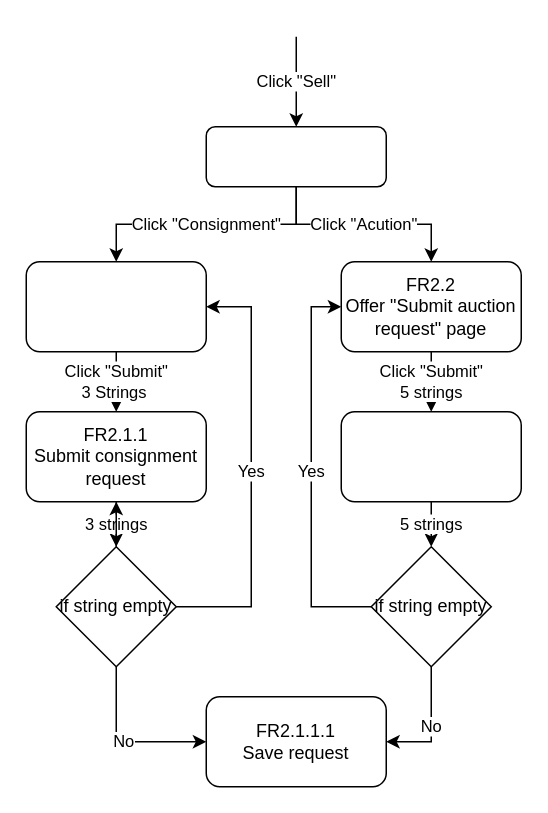
The diagram is 548 pixels wide and 813 high, and some of its shapes have lost their labels. The centre of each missing label's shape, as x and y in pixels:
FR2 Offer sell options: (295,156)
FR2.1 Offer "Submit consignment request" page: (115,306)
FR2.2.1 Submit auction request: (430,456)
